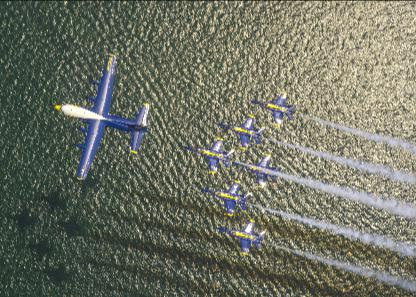Be200: (56, 53, 150, 180)
F15: (183, 136, 235, 173), (201, 180, 251, 216), (217, 219, 266, 255), (217, 114, 266, 150), (233, 152, 281, 188), (249, 90, 297, 126)
